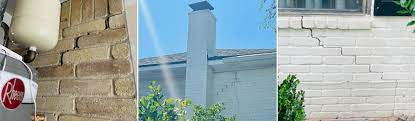stairstep_crack: (298, 14, 397, 82), (55, 0, 112, 66)
